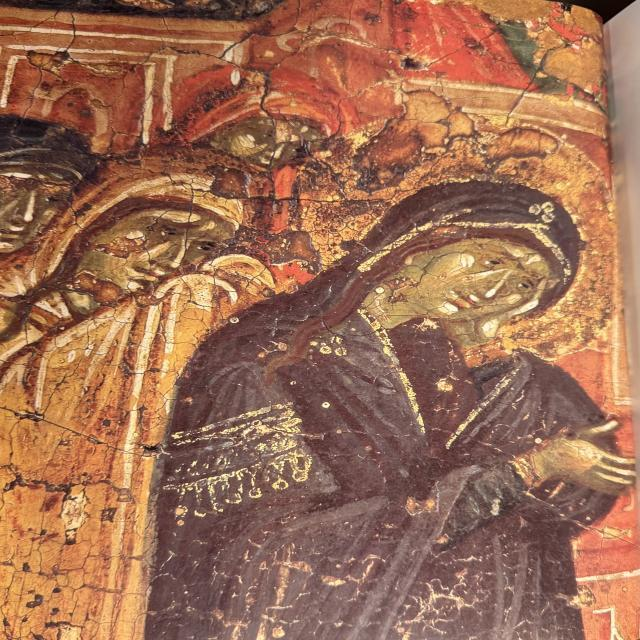aura: (313, 121, 617, 356)
